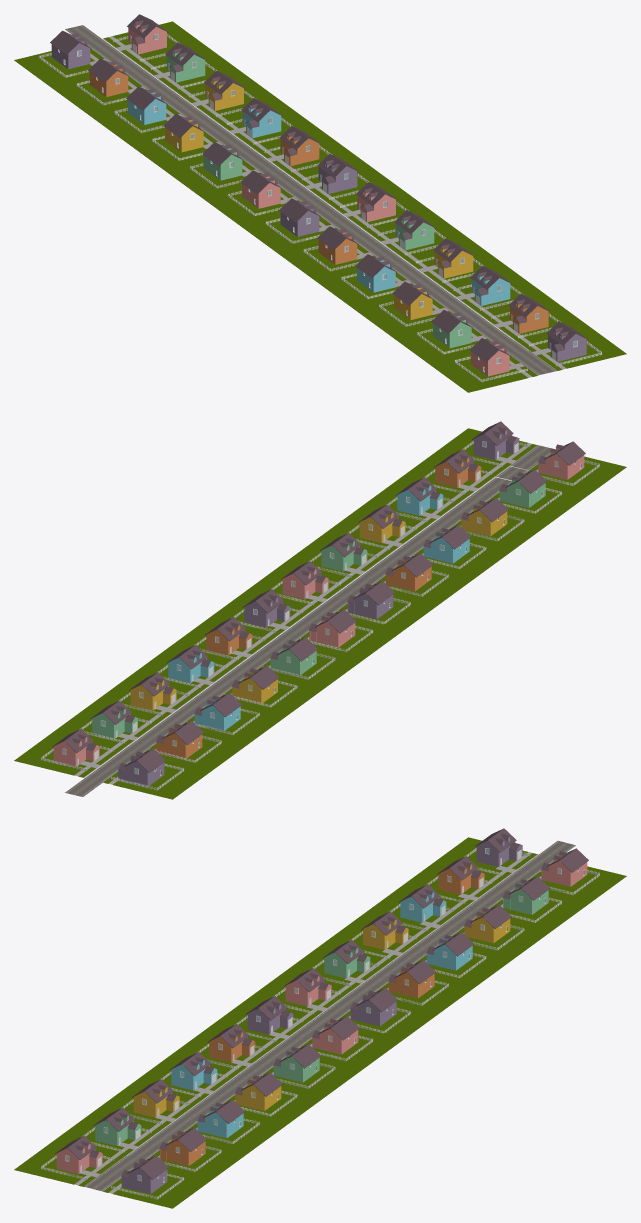
Rendered from suburbianoinside.fbx.
The picture shows the model from 3 angles, top to bottom: view 1: azimuth 30°, elevation 25°; view 2: azimuth 150°, elevation 25°; view 3: azimuth 330°, elevation 25°; orthographic projection.
Visible parts, largest first — view 1: Sidewalk.012, Sidewalk.046, Sidewalk.041, Sidewalk.037, Sidewalk.045, Sidewalk.039, Sidewalk.043, Sidewalk.040, Sidewalk.042, Sidewalk.036, Sidewalk.038, Sidewalk.044 (+24 smaller); view 2: Sidewalk.046, Sidewalk.045, Sidewalk.044, Sidewalk.042, Sidewalk.038, Sidewalk.040, Sidewalk.036, Sidewalk.039, Sidewalk.012, Sidewalk.041, Sidewalk.043, Sidewalk.037 (+24 smaller); view 3: Sidewalk.012, Sidewalk.046, Sidewalk.041, Sidewalk.043, Sidewalk.045, Sidewalk.042, Sidewalk.039, Sidewalk.037, Sidewalk.036, Sidewalk.040, Sidewalk.038, Sidewalk.044 (+24 smaller).
Part boxes in pixels (x1,y1,x2,y2): Sidewalk.012: (430, 326, 626, 392); Sidewalk.046: (14, 21, 210, 88); Sidewalk.041: (204, 160, 399, 226); Sidewalk.037: (355, 271, 550, 337); Sidewalk.045: (52, 49, 248, 115); Sidewalk.039: (279, 215, 475, 281); Sidewalk.043: (128, 105, 323, 170); Sidewalk.040: (241, 188, 437, 254); Sidewalk.042: (166, 132, 361, 198); Sidewalk.036: (393, 298, 588, 364); Sidewalk.038: (317, 243, 512, 309); Sidewalk.044: (90, 77, 286, 143); Sidewalk.046: (14, 732, 210, 799); Sidewalk.045: (53, 705, 248, 771); Sidewalk.044: (90, 677, 286, 743); Sidewalk.042: (166, 622, 361, 688); Sidewalk.038: (317, 511, 512, 577); Sidewalk.040: (242, 566, 437, 632); Sidewalk.036: (393, 456, 588, 522); Sidewalk.039: (279, 539, 475, 605); Sidewalk.012: (431, 428, 626, 494); Sidewalk.041: (204, 594, 399, 660); Sidewalk.043: (128, 649, 324, 715); Sidewalk.037: (355, 483, 550, 549); Sidewalk.012: (14, 1142, 210, 1208); Sidewalk.046: (430, 837, 626, 903); Sidewalk.041: (241, 976, 436, 1042); Sidewalk.043: (316, 920, 512, 986); Sidewalk.045: (392, 865, 588, 931); Sidewalk.042: (279, 948, 474, 1014); Sidewalk.039: (165, 1031, 361, 1097); Sidewalk.037: (90, 1087, 285, 1152); Sidewalk.036: (52, 1114, 248, 1180); Sidewalk.040: (203, 1004, 399, 1069); Sidewalk.038: (127, 1059, 324, 1125); Sidewalk.044: (354, 893, 550, 959).
Size of the model in its own units: 8579 by 1274 by 44351.
